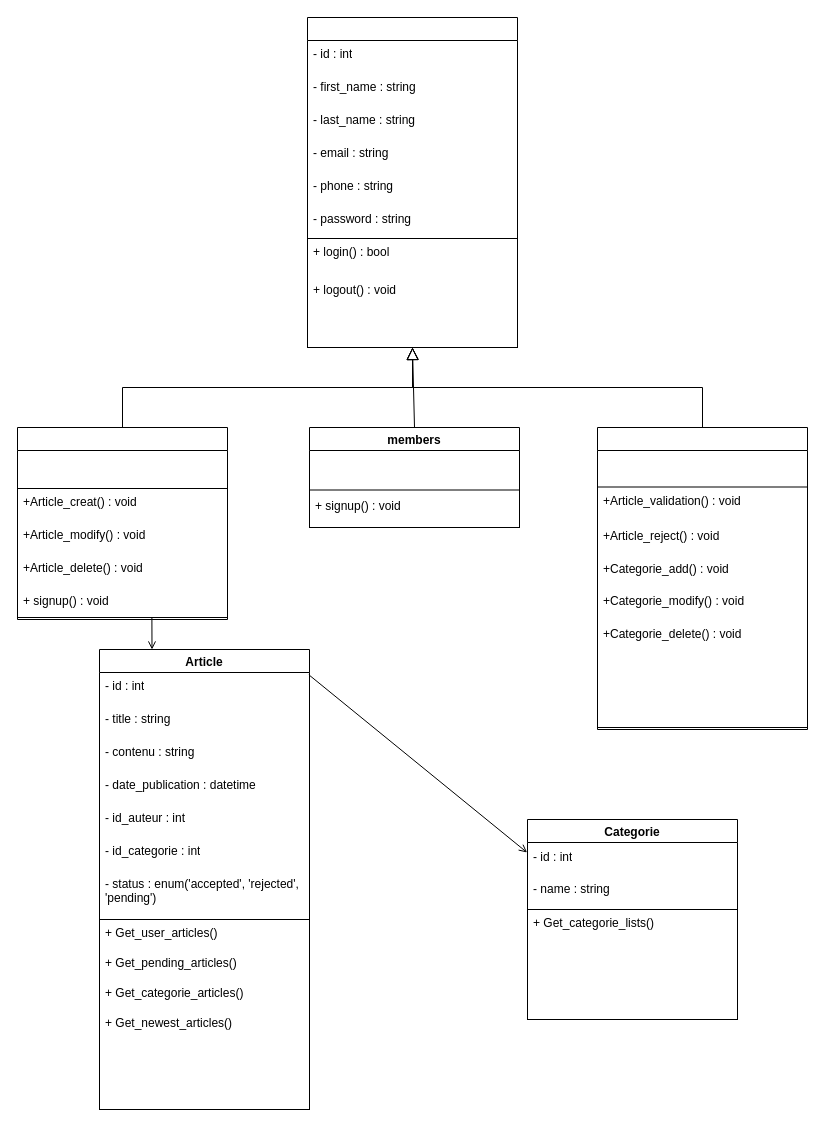
This 825x1127 diagram has some shape labels left out. The shapes that lost their labels are listed below. From the top down, each one's box as (x1, y1, x2, y2) in pixels, then its label:
(306, 16, 518, 348): users
(16, 426, 228, 620): Auteur
(596, 426, 808, 730): Admin
